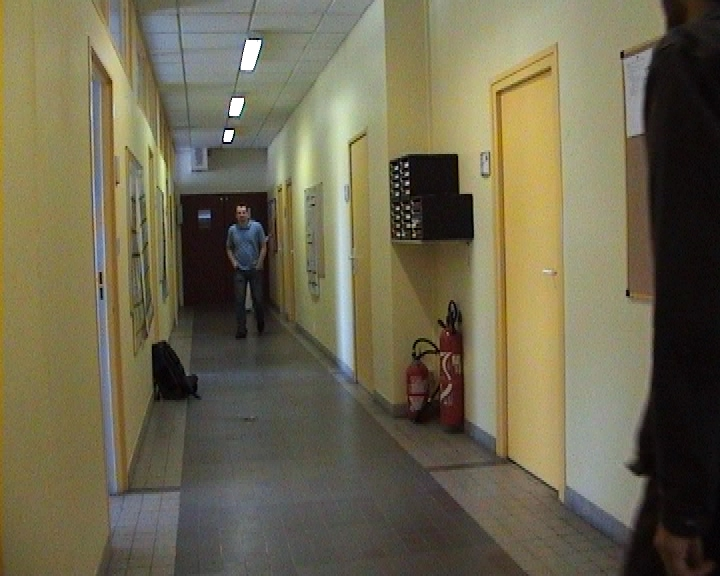leave bag unattended: (135, 322, 220, 410)
